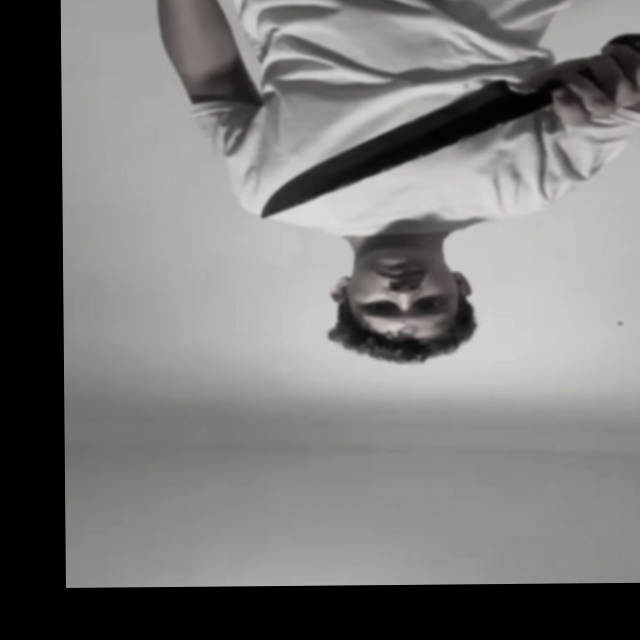Sharp-Object: (260, 82, 534, 219)
